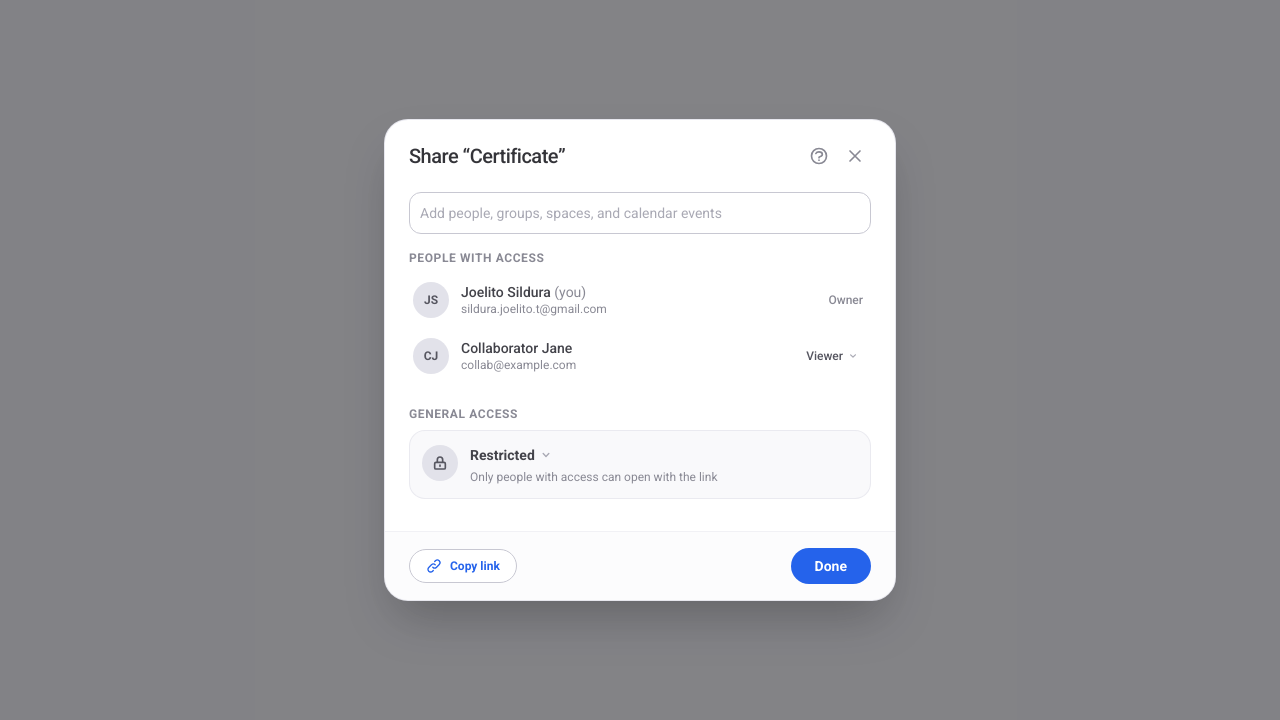
Test: Google Drive Share Modal (<ShareModal />) › updates collaborator role and allows removing access
This screenshot has width=1280, height=720.
Expected: the text "Collaborator Jane" is shown, [461,340,576,357]
Note: Click Collaborator Jane's role dropdown
Step 1. Click the button with aria-label "Role for Collaborator Jane" → (833, 356), box [798,344,867,368]
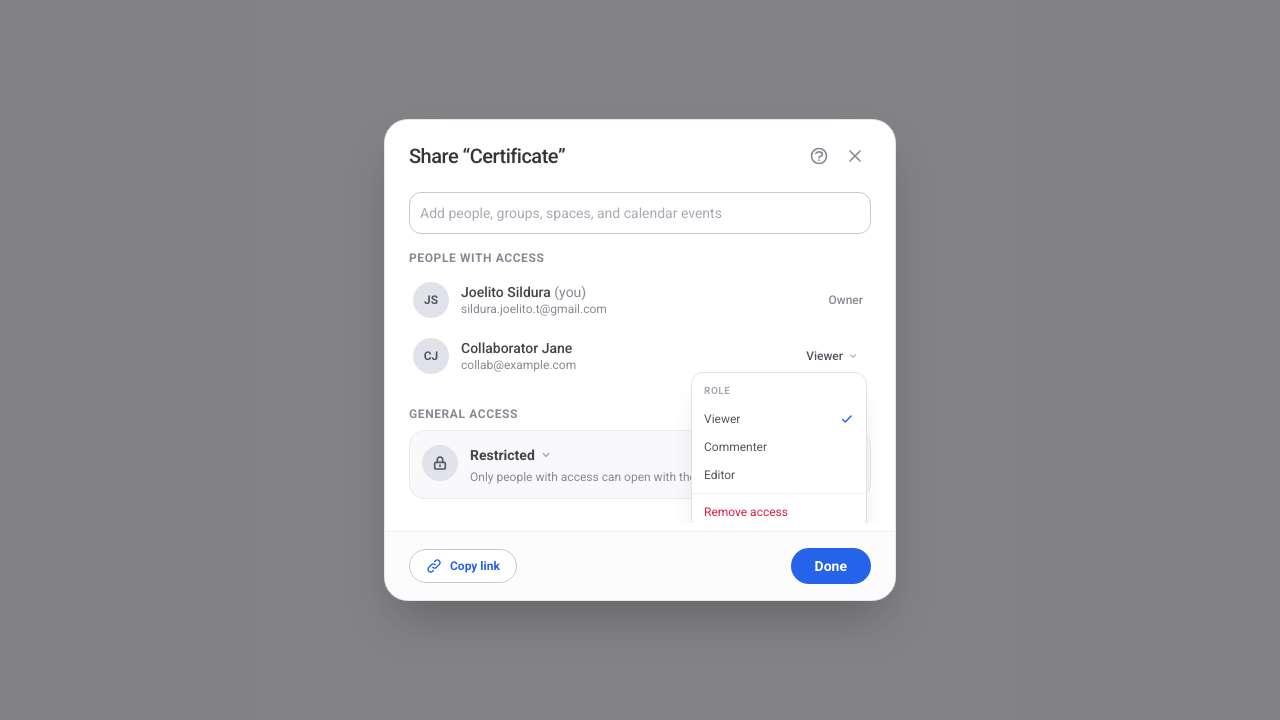
Note: Change to Editor
Step 2. Click the button "Editor" → (779, 475), box [692,461,866,489]
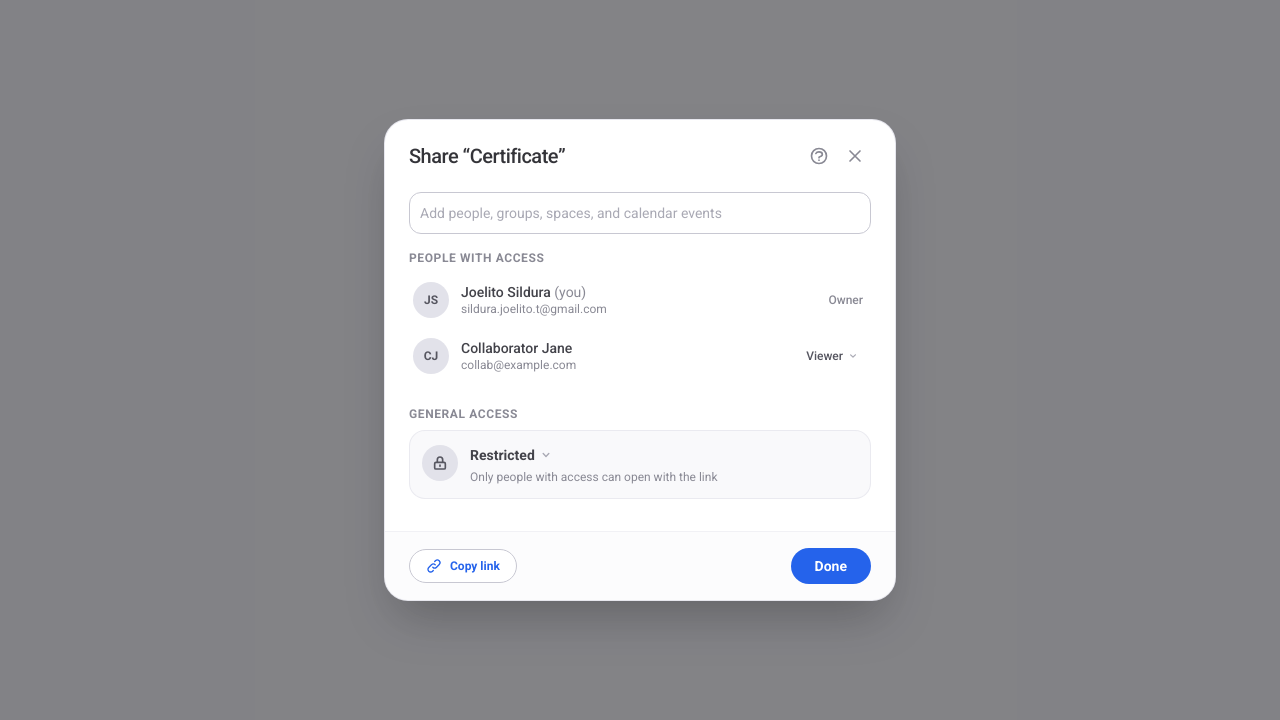
Note: Open dropdown again and click Remove access
Step 3. Click the button with aria-label "Role for Collaborator Jane" → (833, 356), box [798,344,867,368]
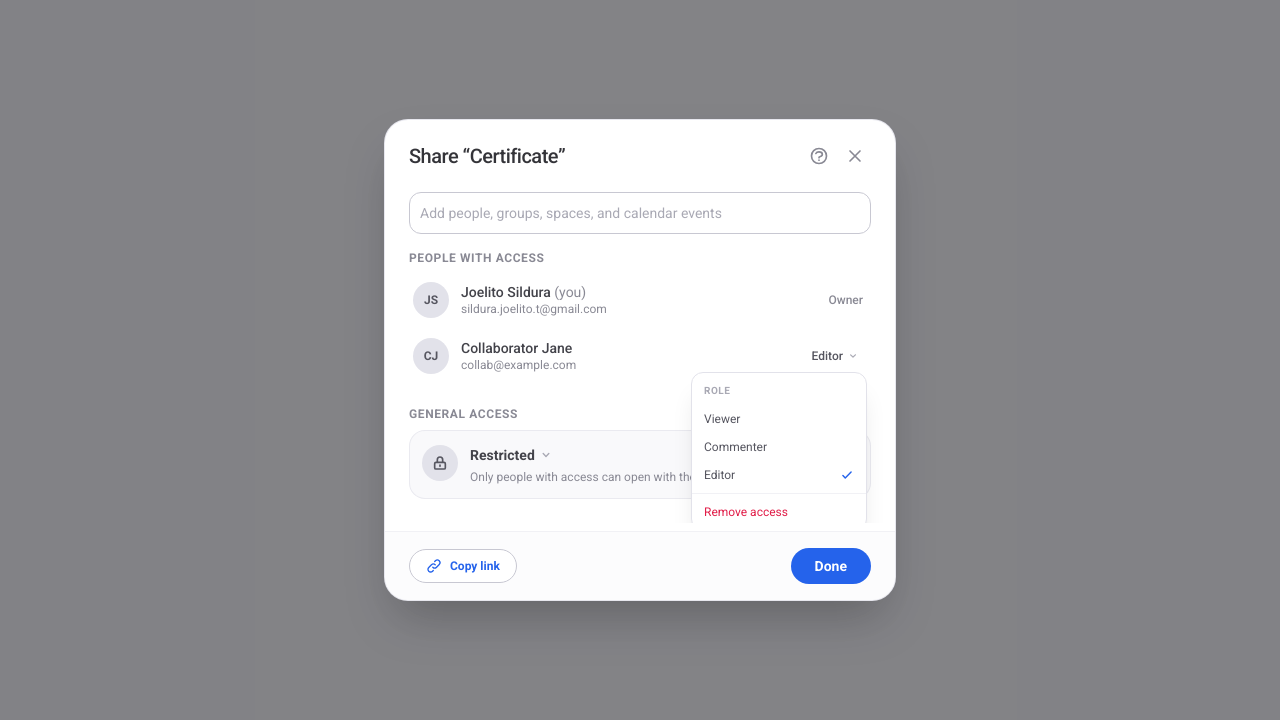
Step 4. Click the button "Remove access" → (779, 512), box [692,498,866,526]
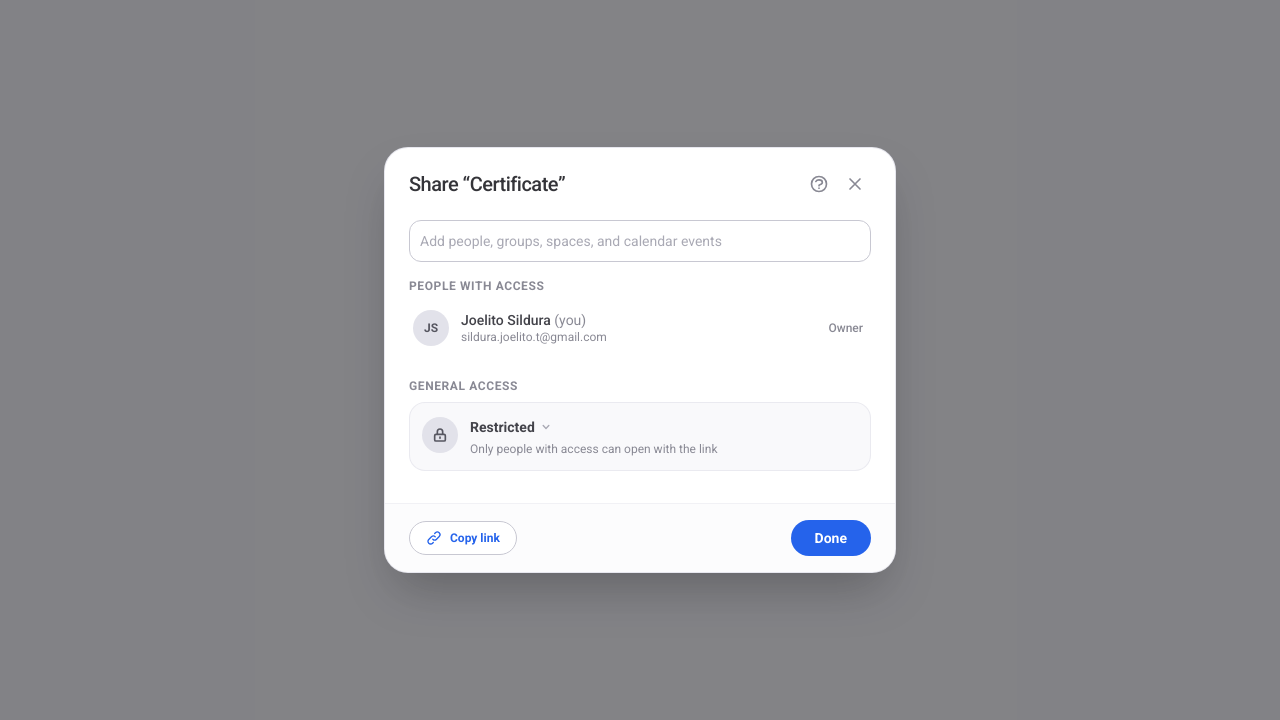
Result: the text "collab@example.com" is gone
